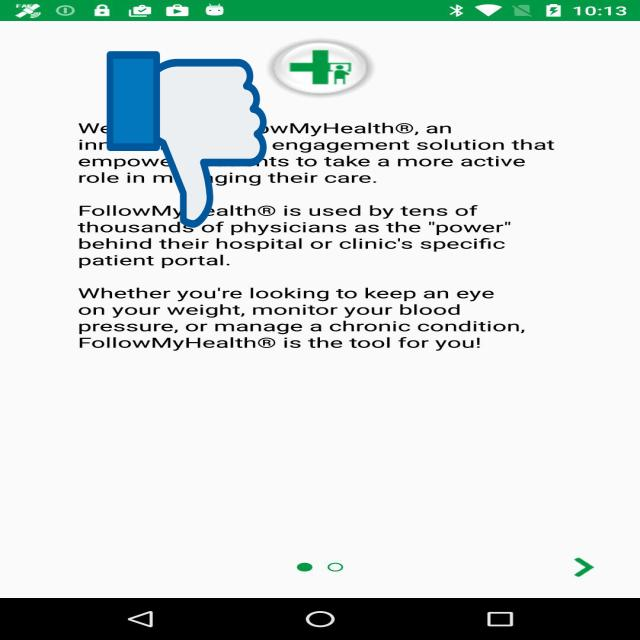obstruction: (106, 47, 266, 232)
